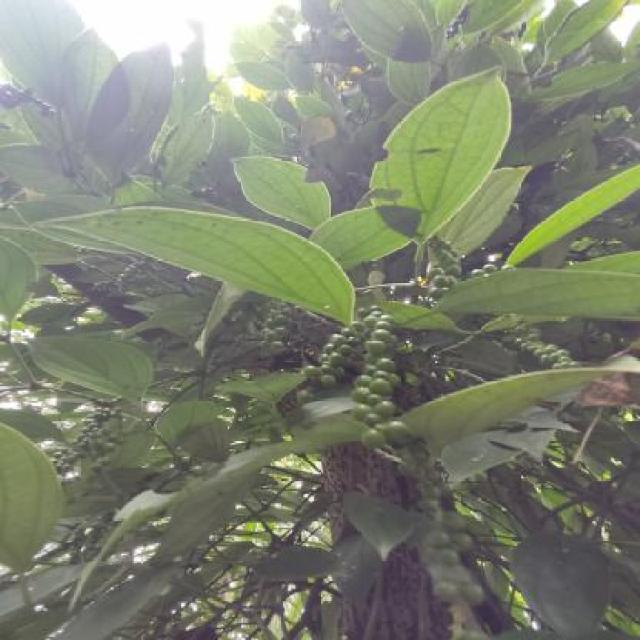UNRIPE: (412, 454, 486, 605), (354, 305, 408, 446), (53, 411, 119, 472), (512, 320, 580, 369), (306, 328, 354, 385), (428, 239, 463, 299), (258, 305, 294, 354), (66, 519, 106, 563), (92, 265, 146, 291), (468, 263, 502, 275)
